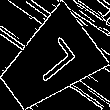L_SW: (21, 35, 77, 91)
